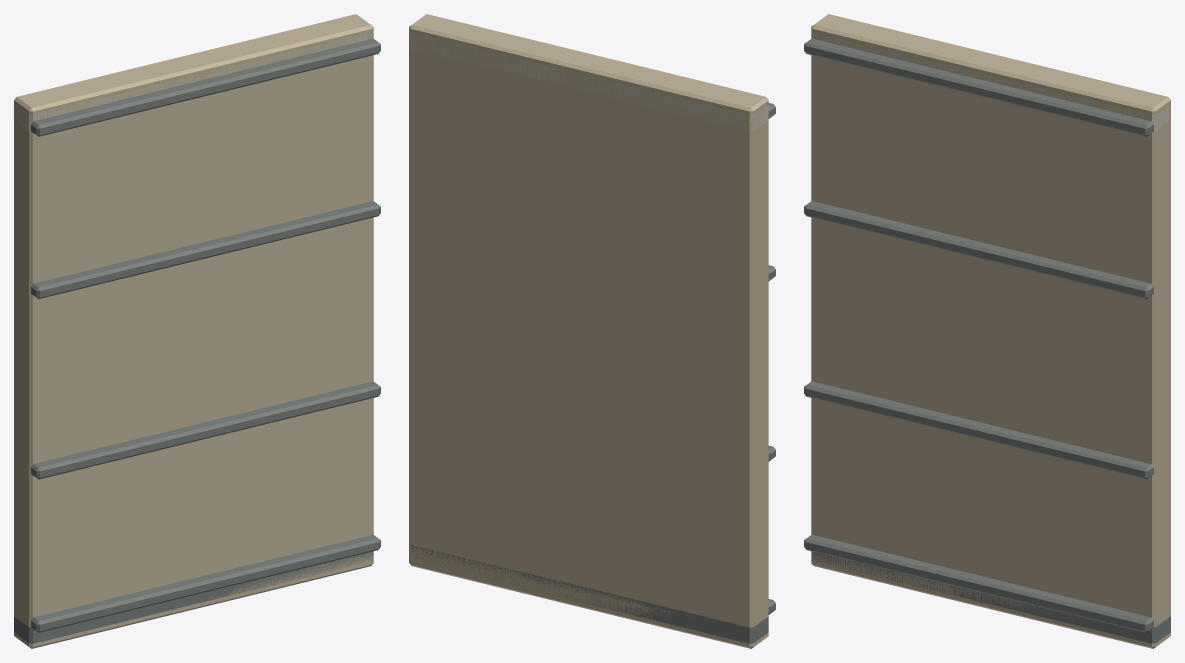
Rendered from architecture-city-wall.lod0.glb.
The picture shows the model from 3 angles, left to right: view 1: azimuth 30°, elevation 25°; view 2: azimuth 150°, elevation 25°; view 3: azimuth 330°, elevation 25°; orthographic projection.
Visible parts, largest first — view 1: architecture-city-wall__body; view 2: architecture-city-wall__body; view 3: architecture-city-wall__body.
Boxes of the visible parts, x1,y1,x2,y2 form: architecture-city-wall__body: (14,14,380,648); architecture-city-wall__body: (409,14,775,648); architecture-city-wall__body: (804,14,1170,648).
Size of the model in its own units: 2 by 3 by 0.25.
